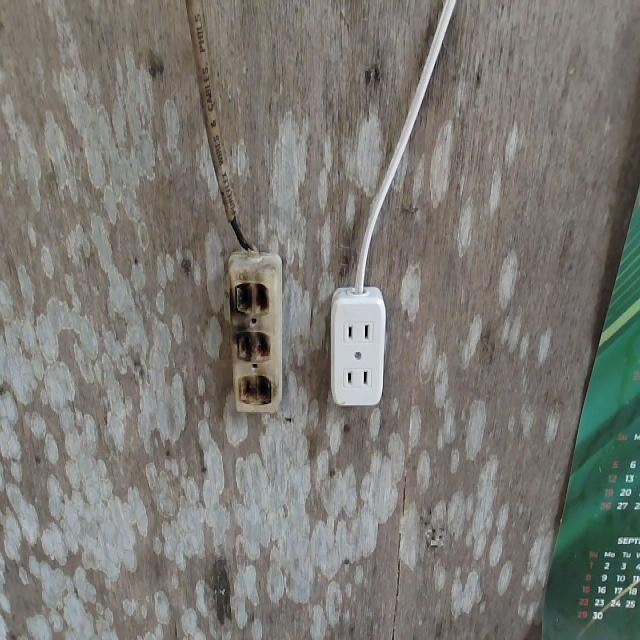-: (228, 274, 276, 409)
